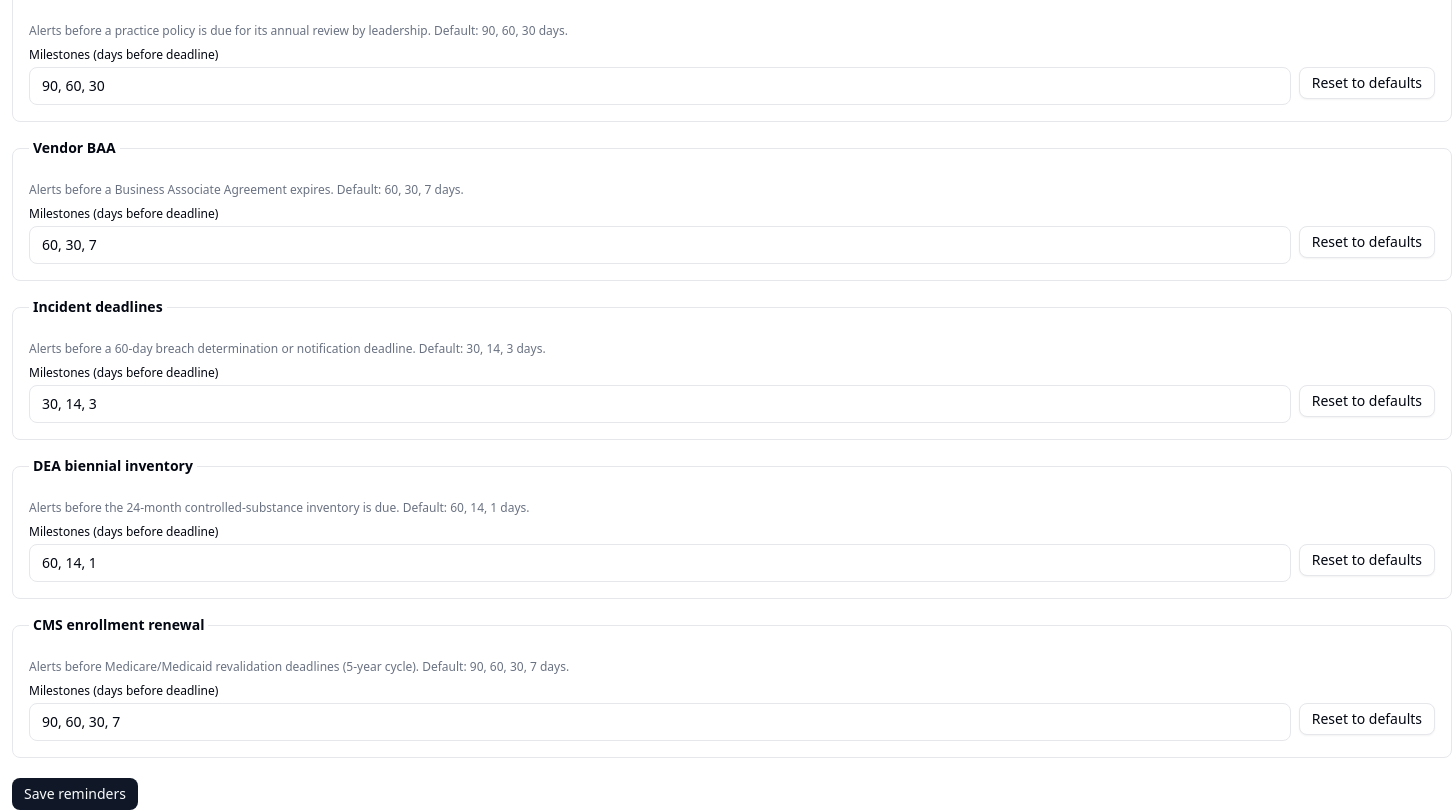
Scenario: <RemindersForm> › submitting unchanged form shows 'No changes to save'
(page scrolled)
Click the button "Save reminders".
click(75, 794)  # box top-left (12, 778), bottom-right (138, 809)
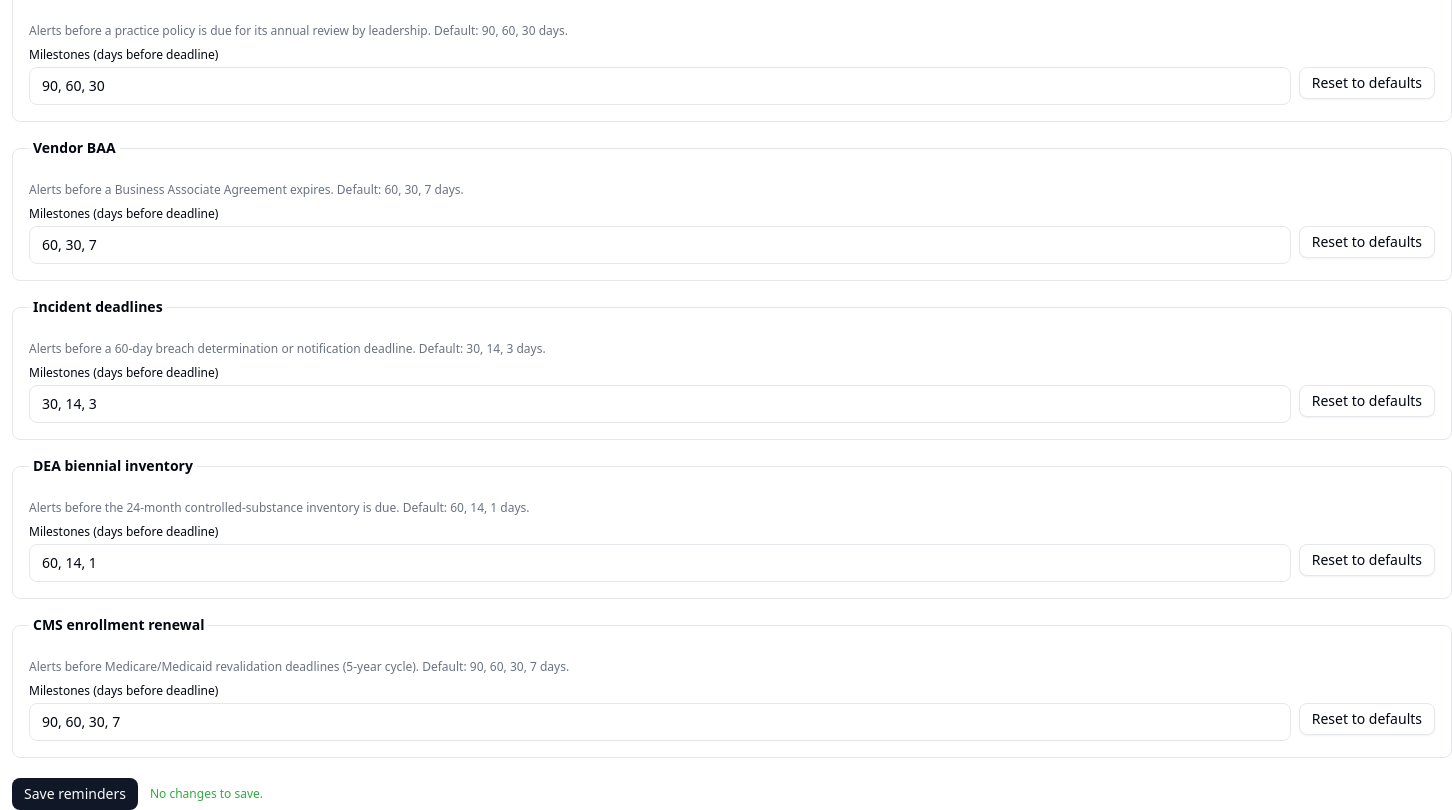
Check: the message shows "No changes to save", box top-left (150, 785), bottom-right (263, 802)
